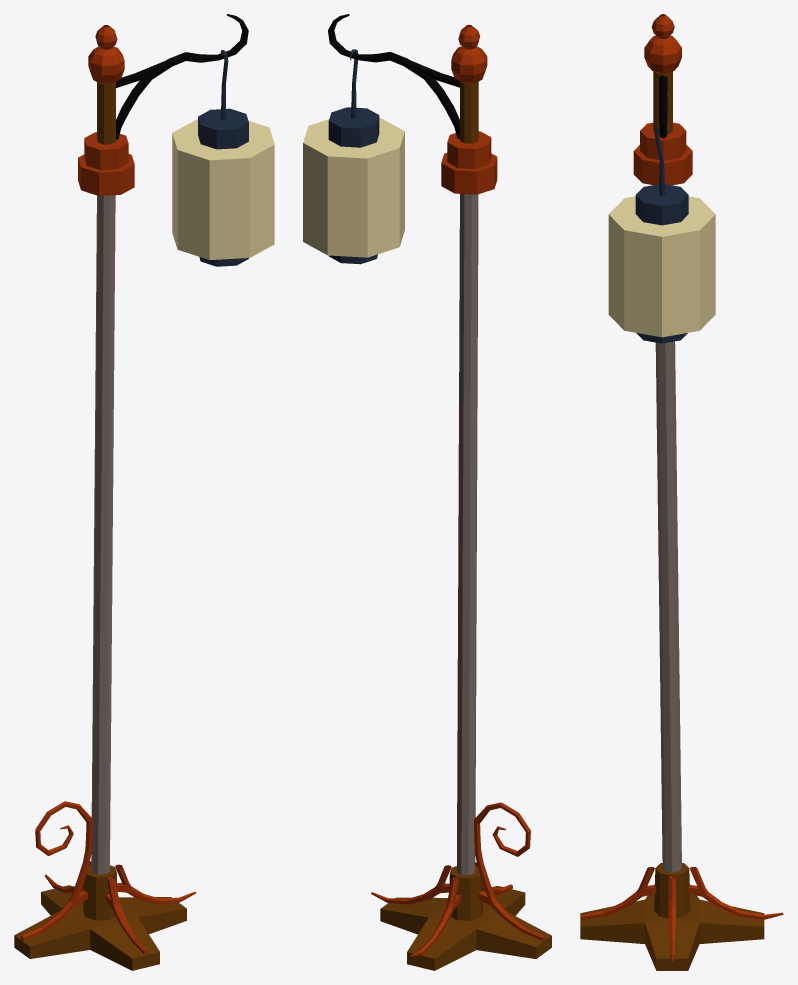
File: GEO_poor_lantern_2.fbx
The picture shows the model from 3 angles, left to right: view 1: azimuth 30°, elevation 25°; view 2: azimuth 150°, elevation 25°; view 3: azimuth 270°, elevation 25°; orthographic projection.
Parts seen in each view (by area): view 1: Poor_Stolpe, Poor_Reindeer_Lantern, Poor_Holder, Poor_Decor, Poor_Gevir; view 2: Poor_Stolpe, Poor_Reindeer_Lantern, Poor_Holder, Poor_Decor, Poor_Gevir; view 3: Poor_Stolpe, Poor_Reindeer_Lantern, Poor_Holder, Poor_Decor, Poor_Gevir.
Boxes of the visible parts, box(x1,y1,x2,y2) form: Poor_Stolpe: box(78, 25, 134, 920); Poor_Reindeer_Lantern: box(172, 50, 274, 266); Poor_Holder: box(14, 885, 186, 970); Poor_Decor: box(21, 801, 195, 954); Poor_Gevir: box(116, 14, 248, 139); Poor_Stolpe: box(441, 24, 497, 920); Poor_Reindeer_Lantern: box(303, 49, 404, 264); Poor_Holder: box(380, 885, 551, 970); Poor_Decor: box(371, 802, 545, 956); Poor_Gevir: box(328, 14, 459, 138); Poor_Stolpe: box(633, 14, 692, 918); Poor_Reindeer_Lantern: box(608, 126, 715, 343); Poor_Holder: box(580, 884, 764, 970); Poor_Decor: box(581, 867, 783, 961); Poor_Gevir: box(659, 75, 667, 138).
Bounding box in the file's own units: 83.37 × 299 × 60.07.
